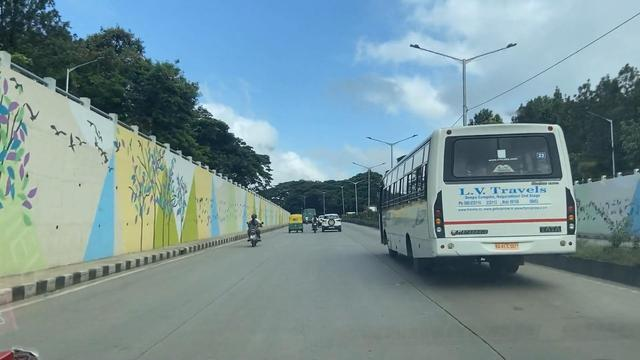HMV: (378, 128, 579, 276)
LMV: (248, 211, 263, 245)
